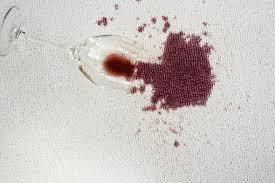oil: (106, 45, 214, 111), (163, 34, 207, 56), (158, 12, 175, 38), (132, 17, 150, 37), (93, 15, 110, 27), (173, 138, 187, 151), (164, 122, 177, 135), (113, 5, 121, 13)
